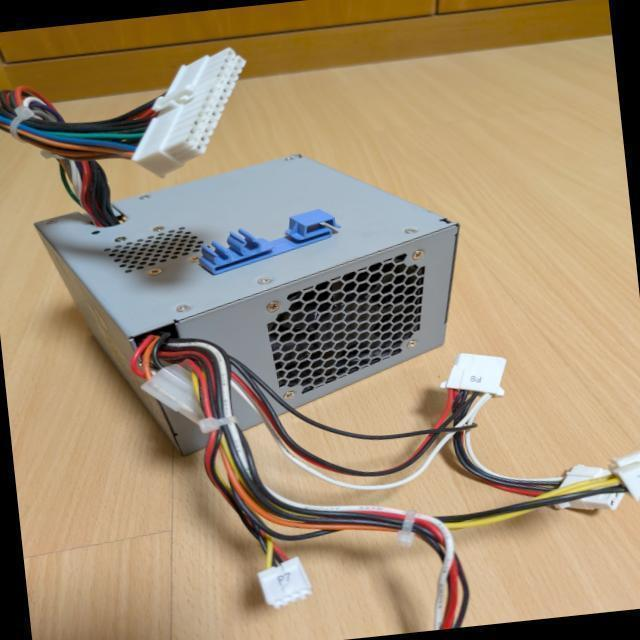PSU: (28, 137, 480, 470)
